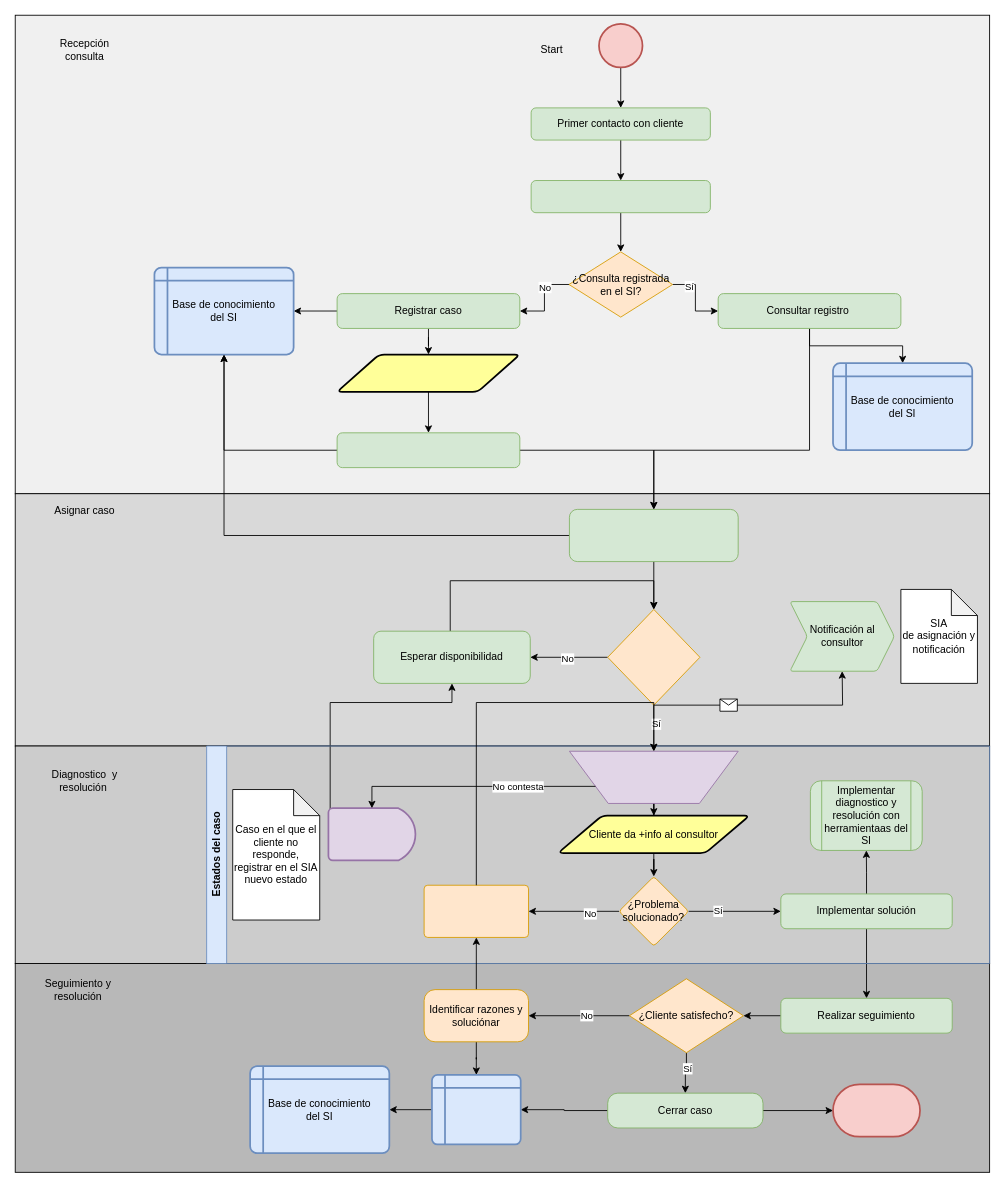
The diagram is 1005 pixels wide and 1188 high, and some of its shapes have lost their labels. Here are the shapes that lost their labels. From the top down, the centre of each, then its label:
At [620,196]: "Rellenar registro de consulta y/o adjuntos del cliente".
At [428,372]: "El cliente envía su consulta".
At [428,450]: "Clasificación".
At [653,535]: "Asignción automática del caso".
At [653,657]: "¿Consultor disponible y especializado?".
At [653,776]: "Contactar con el cliente para diagnóstico".
At [371,834]: "Esperar respuesta".
At [476,910]: "Revisar y resolver nuevamente".
At [476,1109]: "Almacenar Feedback".
At [876,1110]: "Fin".
